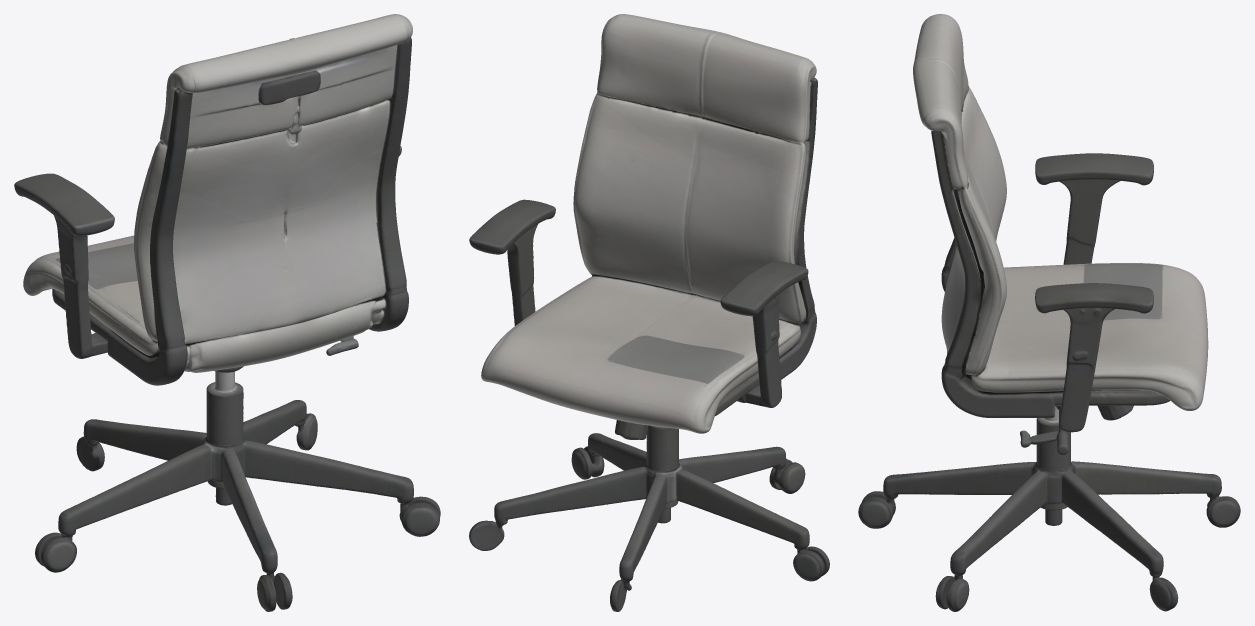
Rendered from modern_office_chair_padded_15.glb.
3 renders of one model, left to right at view 1: azimuth 30°, elevation 25°; view 2: azimuth 150°, elevation 25°; view 3: azimuth 270°, elevation 25°, orthographic. The views are drawn at different scales.
Visible parts, largest first — view 1: tripo_node_b4647138-dbec-478d-9717-826cd6438458; view 2: tripo_node_b4647138-dbec-478d-9717-826cd6438458; view 3: tripo_node_b4647138-dbec-478d-9717-826cd6438458.
Boxes of the visible parts, x1=… form: tripo_node_b4647138-dbec-478d-9717-826cd6438458: x1=14, y1=14, x2=440, y2=611; tripo_node_b4647138-dbec-478d-9717-826cd6438458: x1=469, y1=14, x2=829, y2=611; tripo_node_b4647138-dbec-478d-9717-826cd6438458: x1=858, y1=14, x2=1240, y2=611.
Bounding box in the file's own units: 0.6999 × 1 × 0.7071.
Materials: 1 (1 with a texture image).
